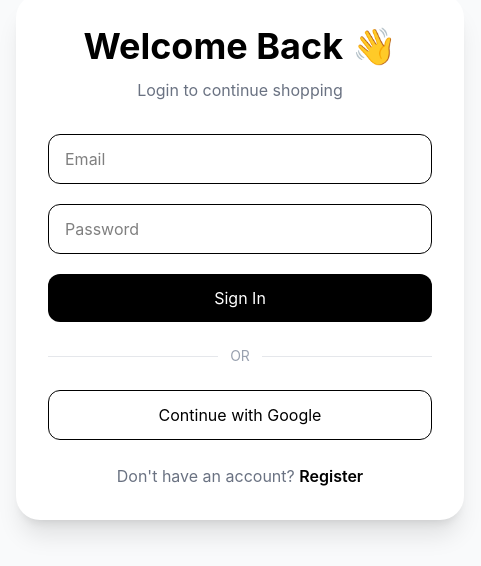
Login › debe mostrar error cuando el password está vacío
The image size is (481, 566).
Type "test@example.com" into the field with placeholder "Email". click: coordinates (240, 159)
box: [48,134,432,184]
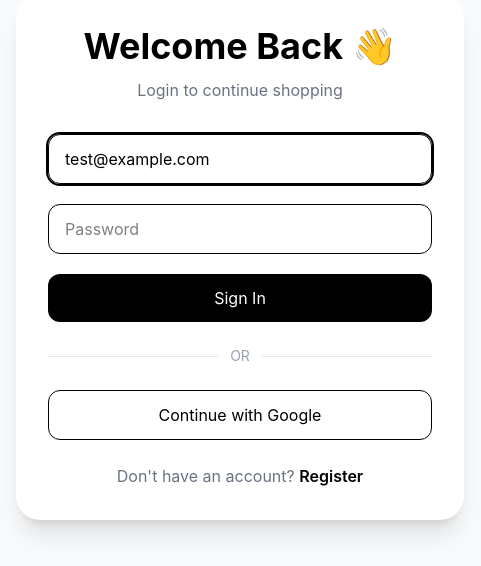
Click the button "Sign In". click: coordinates (240, 298)
box: [48,274,432,322]
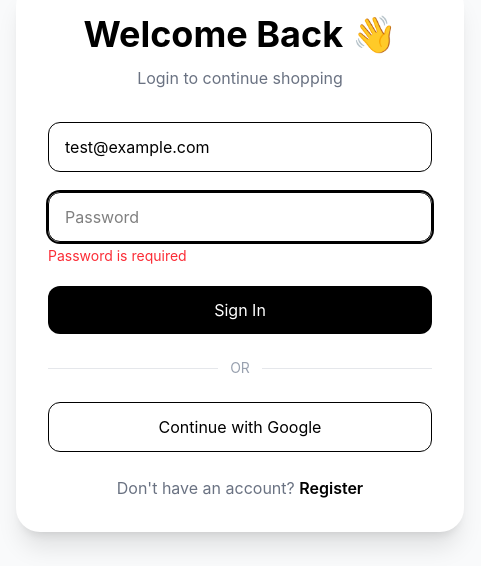
Expected: the text "Password is required" is shown, [48,247,187,264]
